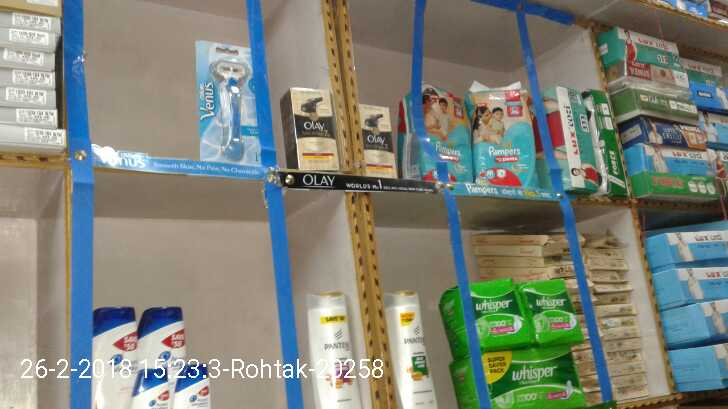venus: (199, 44, 260, 161)
